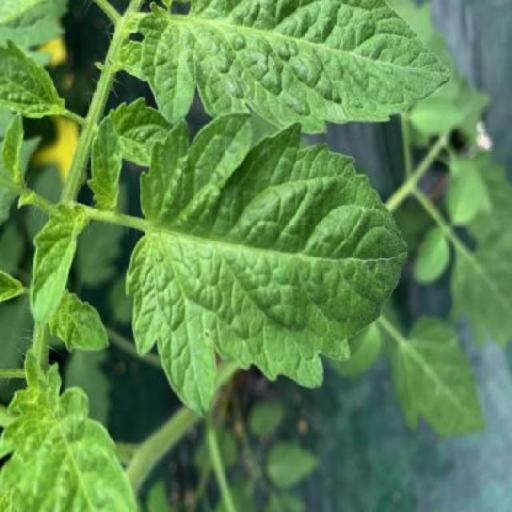Healthy: (126, 113, 408, 419)
